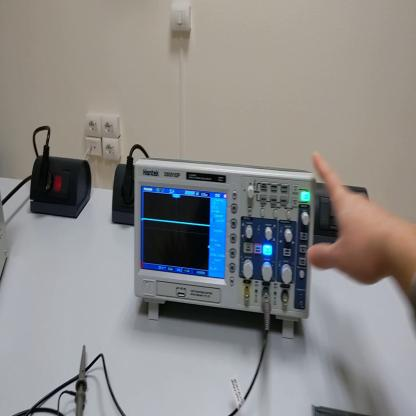hand: (307, 152, 396, 287)
oscilloscope: (135, 157, 319, 341)
oscilloscope probe tip: (74, 344, 88, 414)
power supply: (1, 195, 10, 284)
socket: (30, 160, 92, 221), (113, 163, 136, 226)
